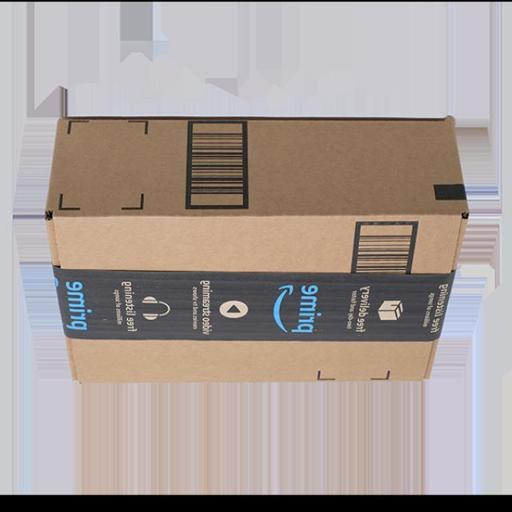Amazon: (45, 113, 471, 390)
